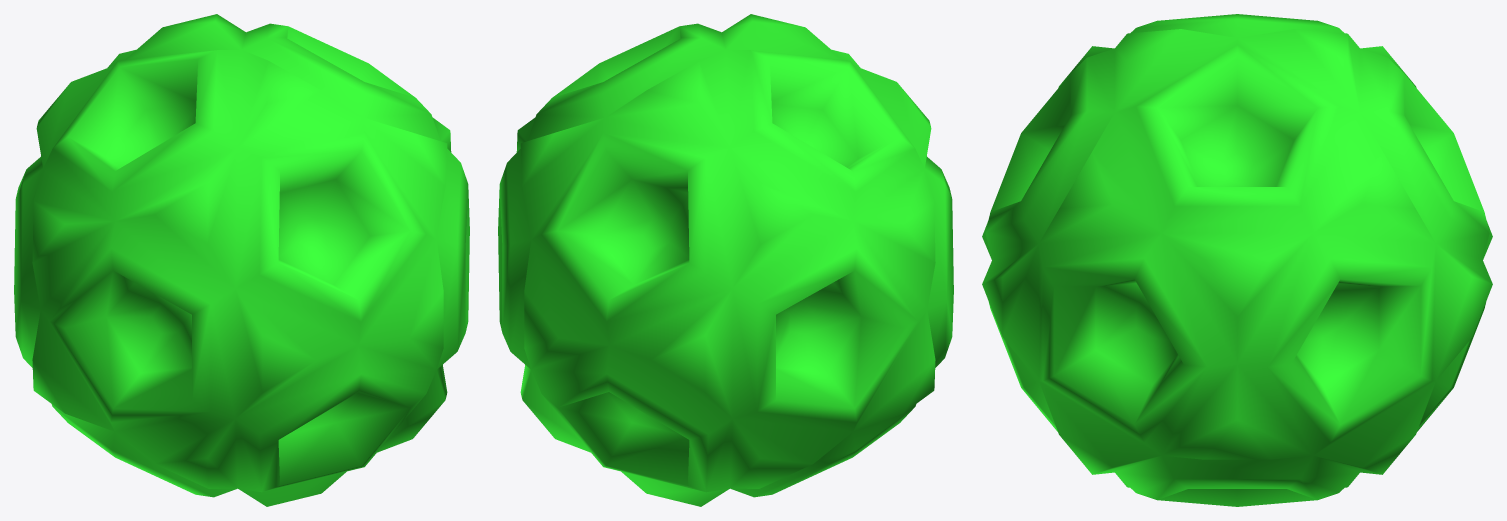
File: Blob.obj
The picture shows the model from 3 angles, left to right: view 1: azimuth 30°, elevation 25°; view 2: azimuth 150°, elevation 25°; view 3: azimuth 270°, elevation 25°; orthographic projection. The views are drawn at different scales.
Parts seen in each view (by area): view 1: Blob; view 2: Blob; view 3: Blob.
Part boxes in pixels (x1,y1,x2,y2): Blob: (14, 14, 469, 506); Blob: (498, 14, 953, 506); Blob: (982, 14, 1492, 506).
Bounding box in the file's own units: 1 × 1 × 1.
